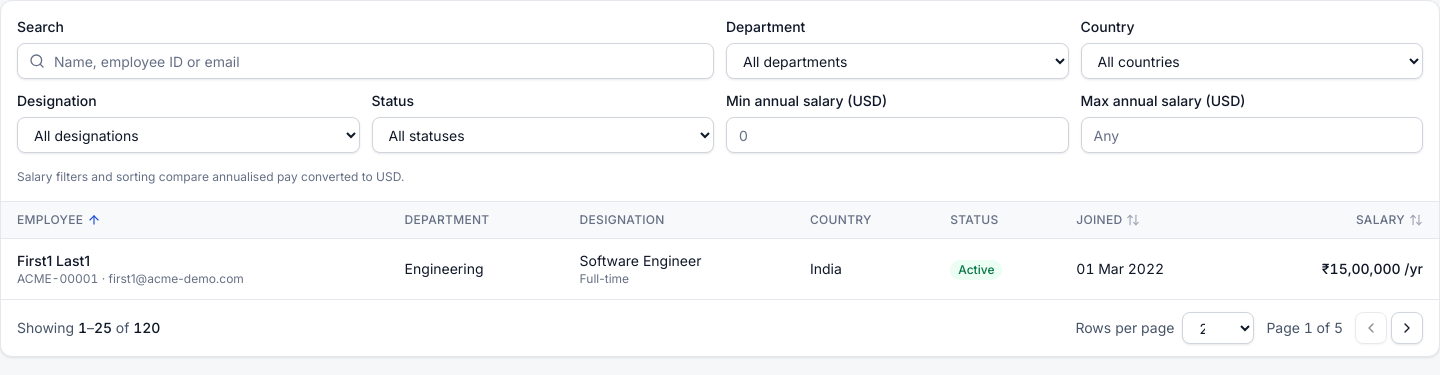
EmployeeDirectory sorting and pagination › pages forward and back, and resets to page 1 when the page size changes
This screenshot has width=1440, height=375.
Later steps or results of the test are not shown.
Check: the link "First1 Last1" is shown, box [17,252,90,269]
Check: the text "Page 1 of 5" is shown, box [1266,318,1343,338]
Step 1. Click the button named "Next page" → (1407, 328), box [1391,312,1423,344]
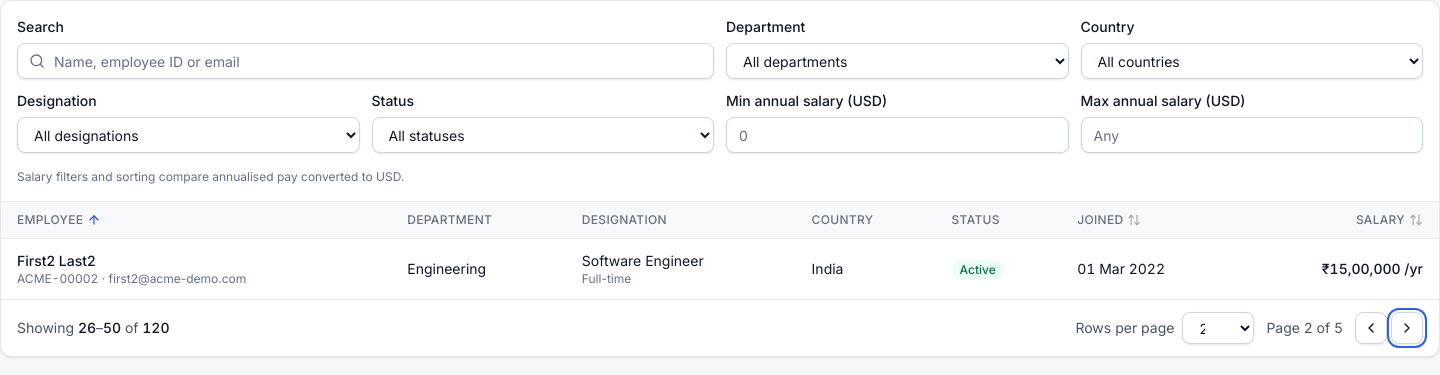
Check: the link "First2 Last2" is shown, box [17,252,96,269]
Check: the text "Showing 26–50 of 120" is shown, box [17,318,170,338]
Step 2. Click the button named "Previous page" → (1371, 328), box [1355,312,1387,344]
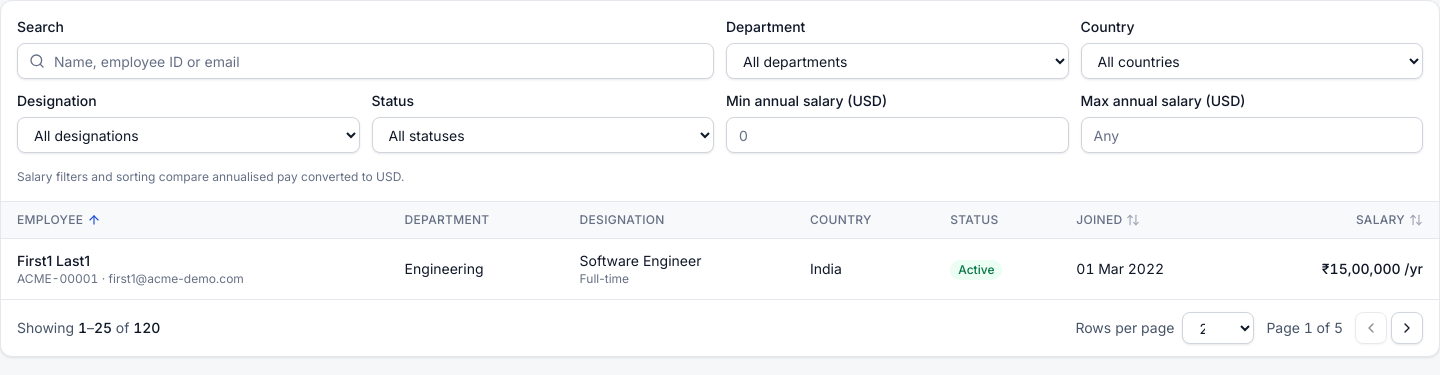
Step 3. Click the button named "Next page" → (1407, 328), box [1391,312,1423,344]
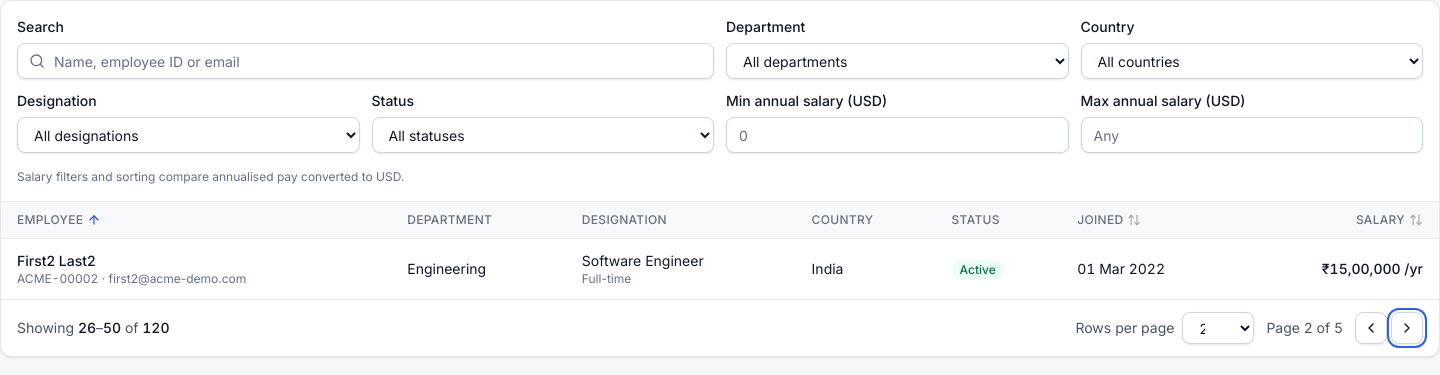
Check: the link "First2 Last2" is shown, box [17,252,96,269]
